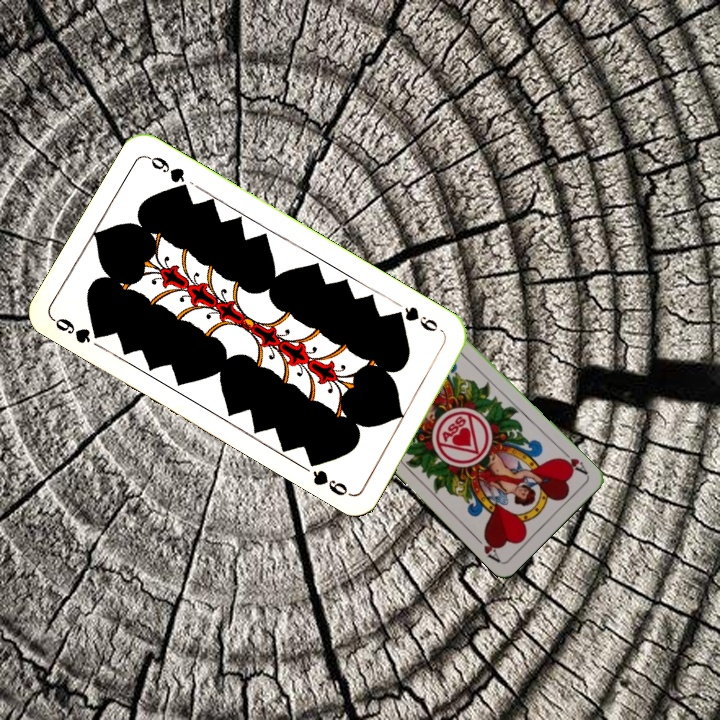G9: (49, 314, 108, 346), (390, 302, 440, 335)
HA: (556, 446, 590, 477)
